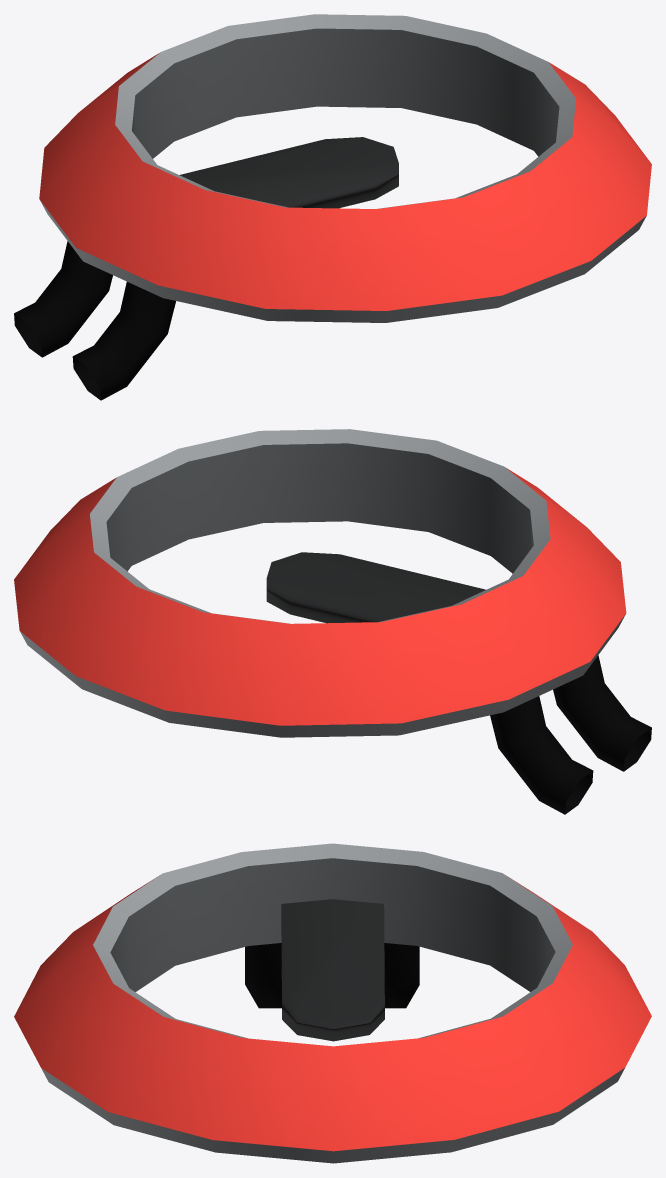
File: Drone_015_wing_001.fbx
The picture shows the model from 3 angles, top to bottom: view 1: azimuth 30°, elevation 25°; view 2: azimuth 150°, elevation 25°; view 3: azimuth 270°, elevation 25°; orthographic projection. The views are drawn at different scales.
Parts seen in each view (by area): view 1: Drone_015_wing_001; view 2: Drone_015_wing_001; view 3: Drone_015_wing_001.
Part boxes in pixels (box(x1,y1,x2,y2)): Drone_015_wing_001: box(14, 14, 651, 400); Drone_015_wing_001: box(14, 429, 651, 814); Drone_015_wing_001: box(14, 843, 651, 1163).
Bounding box in the file's own units: 50.08 × 47.79 × 16.4.
